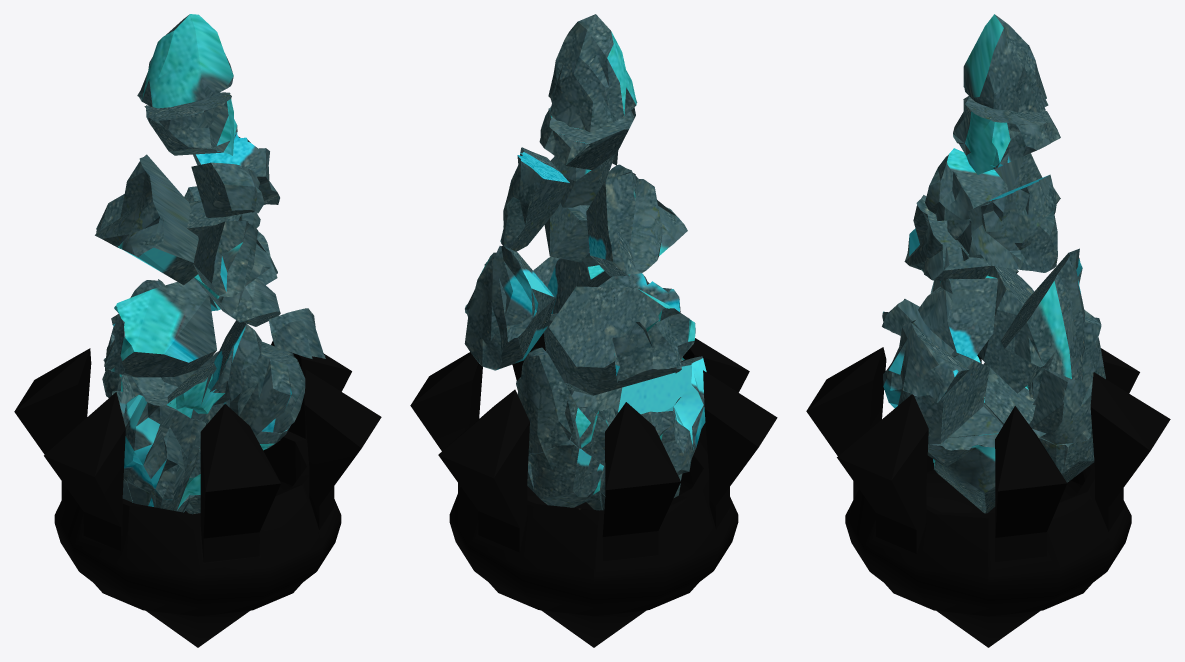
The model's file is Tutorial_Stalac_attacked.fbx.
3 renders of one model, left to right at view 1: azimuth 30°, elevation 25°; view 2: azimuth 150°, elevation 25°; view 3: azimuth 270°, elevation 25°, orthographic.
Parts seen in each view (by area): view 1: Cylinder.001; view 2: Cylinder.001; view 3: Cylinder.001.
Boxes of the visible parts, left/top/right/bottom form: Cylinder.001: left=14, top=14, right=381, bottom=647; Cylinder.001: left=410, top=14, right=777, bottom=647; Cylinder.001: left=806, top=14, right=1170, bottom=647.
Size of the model in its own units: 256 by 487 by 255.
